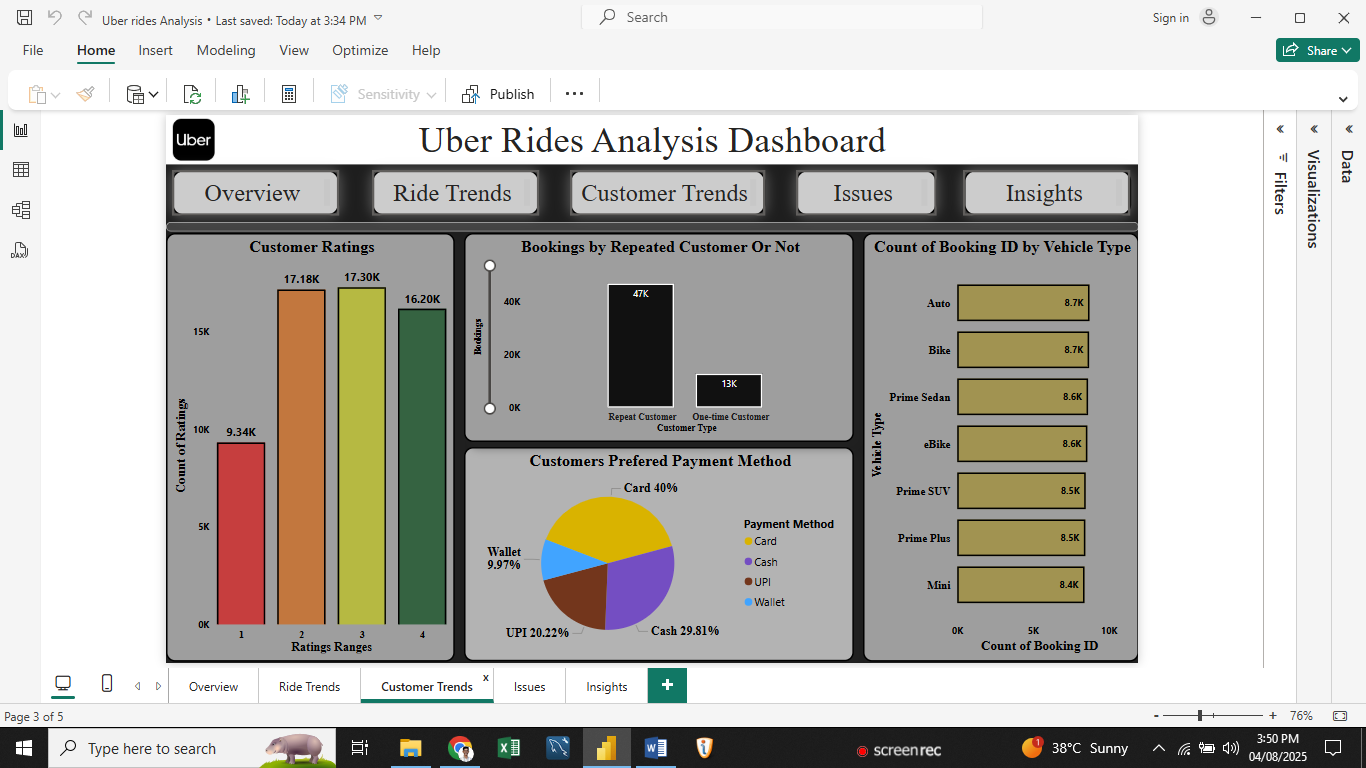

What the dashboard file says about the page in this screenshot:
{"tool":"powerbi","page":{"name":"Customer Trends","canvas":[1280,720],"ordinal":2},"visuals":[{"type":"textbox","box":[0,0,1280,65.2],"z":0},{"type":"image","box":[0,0,73.9,65.2],"z":1000},{"type":"textbox","box":[7.8,72,219.8,60.3],"z":2000},{"type":"textbox","box":[270.4,72,219.8,60.3],"z":3000},{"type":"textbox","box":[532,72,257,60],"z":4000},{"type":"textbox","box":[829,72,185,60],"z":5000},{"type":"textbox","box":[1049.5,72,219.8,60.3],"z":6000},{"type":"actionButton","box":[270.4,72,219.8,60.3],"z":7000},{"type":"actionButton","box":[1049,72,220,60],"z":8000},{"type":"actionButton","box":[7.8,72,219.8,60.3],"z":9000},{"type":"shape","box":[0,141,1280,12.6],"z":10000},{"type":"columnChart","title":"Customer Ratings","fields":{"Category":["Uber_Pune_Booking_Data.Rating_Category"],"Y":["CountNonNull(Uber_Pune_Booking_Data.Rating_Category)"],"Series":["Uber_Pune_Booking_Data.Rating_Category"]},"box":[0,155.2,380.1,564.5],"z":11000},{"type":"pieChart","title":"Customers Prefered Payment Method","fields":{"Y":["CountNonNull(Uber_Pune_Booking_Data.Customer ID)"],"Category":["Uber_Pune_Booking_Data.Payment Method"]},"box":[391.8,437.2,513.1,282.5],"z":12000},{"type":"columnChart","title":"Bookings by Repeated Customer Or Not","fields":{"Category":["Uber_Pune_Booking_Data.Customer_Type(Repeatornot)"],"Y":["Uber_Pune_Booking_Data.Total_Bookings"]},"box":[392,155,513,275],"z":13000},{"type":"barChart","title":"Count of Booking ID by Vehicle Type","fields":{"Category":["Uber_Pune_Booking_Data.Vehicle Type"],"Y":["CountNonNull(Uber_Pune_Booking_Data.Booking ID)"]},"box":[917,155,363,564],"z":14000},{"type":"actionButton","box":[829,72,185,60],"z":15000},{"type":"actionButton","box":[532,72,257,60],"z":16000}]}

Visuals, with their boxes on the page's 1280x720 design canvas (x1, y1, x2, y2). These are canvas units, not pixel positions in the 1366x768 screenshot, which may show the page scaled, cropped or inside an application window:
textbox: left=0, top=0, right=1280, bottom=65
image: left=0, top=0, right=74, bottom=65
textbox: left=8, top=72, right=228, bottom=132
textbox: left=270, top=72, right=490, bottom=132
textbox: left=532, top=72, right=789, bottom=132
textbox: left=829, top=72, right=1014, bottom=132
textbox: left=1050, top=72, right=1269, bottom=132
actionButton: left=270, top=72, right=490, bottom=132
actionButton: left=1049, top=72, right=1269, bottom=132
actionButton: left=8, top=72, right=228, bottom=132
shape: left=0, top=141, right=1280, bottom=154
"Customer Ratings" columnChart: left=0, top=155, right=380, bottom=720
"Customers Prefered Payment Method" pieChart: left=392, top=437, right=905, bottom=720
"Bookings by Repeated Customer Or Not" columnChart: left=392, top=155, right=905, bottom=430
"Count of Booking ID by Vehicle Type" barChart: left=917, top=155, right=1280, bottom=719
actionButton: left=829, top=72, right=1014, bottom=132
actionButton: left=532, top=72, right=789, bottom=132
